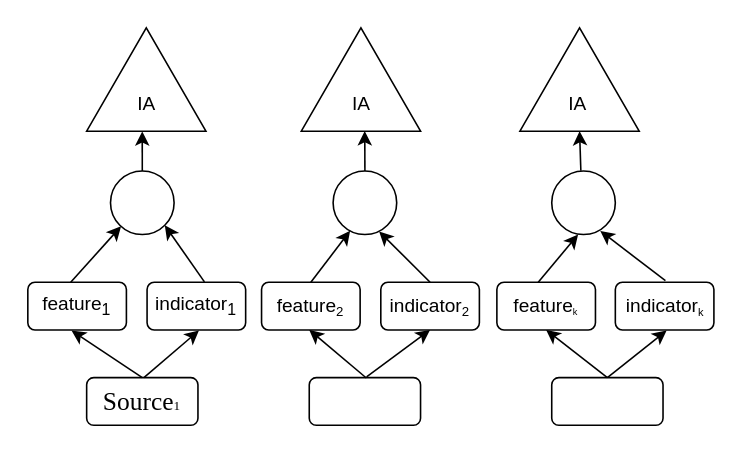
This 743x453 diagram has some shape labels left out. Here are the shapes that lost their labels. From the top down, the centre of each, then its label:
At [141,202]: "token 1".
At [364,202]: "token 2".
At [582,202]: "token k".
At [364,400]: "Source 2".
At [606,400]: "Source k".
